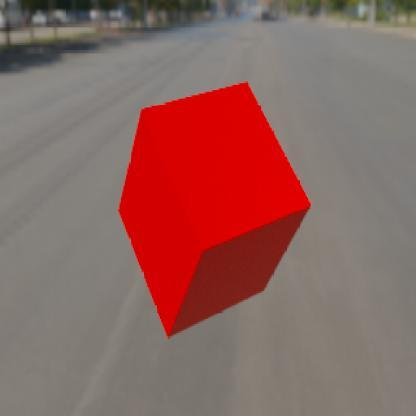cube: (117, 80, 311, 338)
